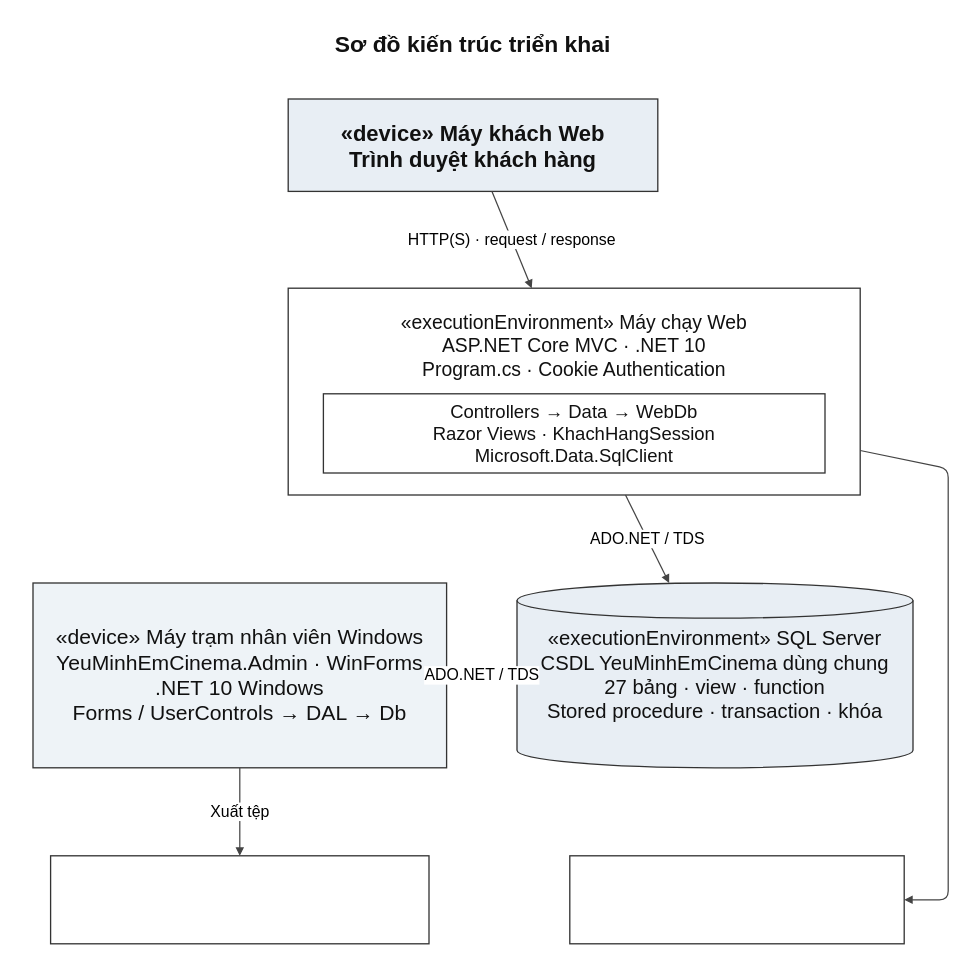
Image size: 971x959. Some labels were removed from this diagram. The box of each missing label's shape, as (x1, y1, x2, y2) in pixels:
«artifact» Tệp cục bộ nhân viên Phiếu HTML · ảnh QR · CSV: (50, 855, 429, 944)
«artifact» Tệp riêng của Web Ảnh đại diện ngoài wwwroot: (569, 855, 904, 944)
